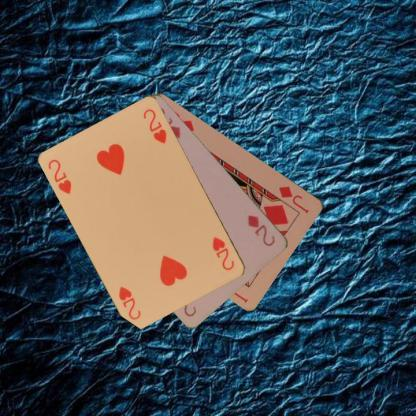2d: (245, 212, 277, 248)
2h: (46, 156, 73, 196), (210, 234, 236, 272)
Jd: (276, 183, 311, 215)
